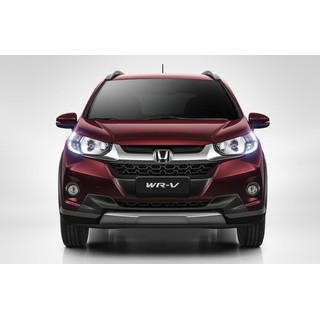car: (56, 69, 273, 250)
